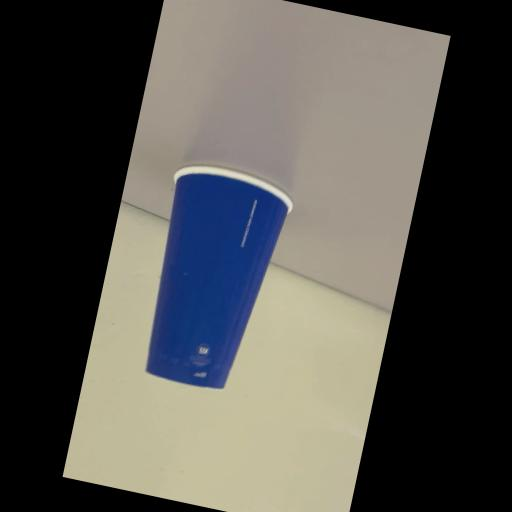lp_paper_cup: (134, 160, 297, 396)
